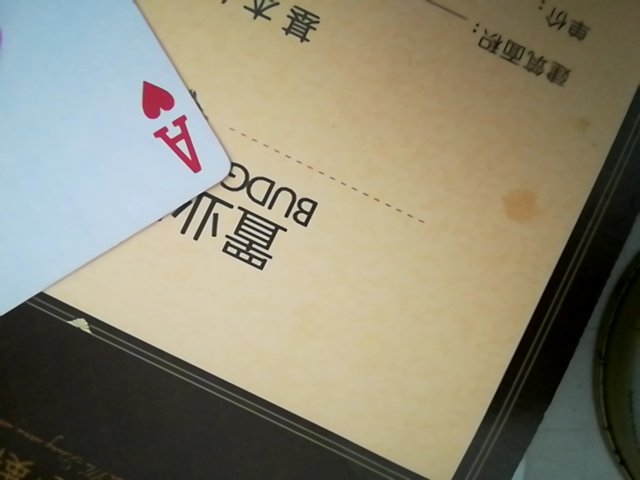hx a: (0, 1, 225, 386)
